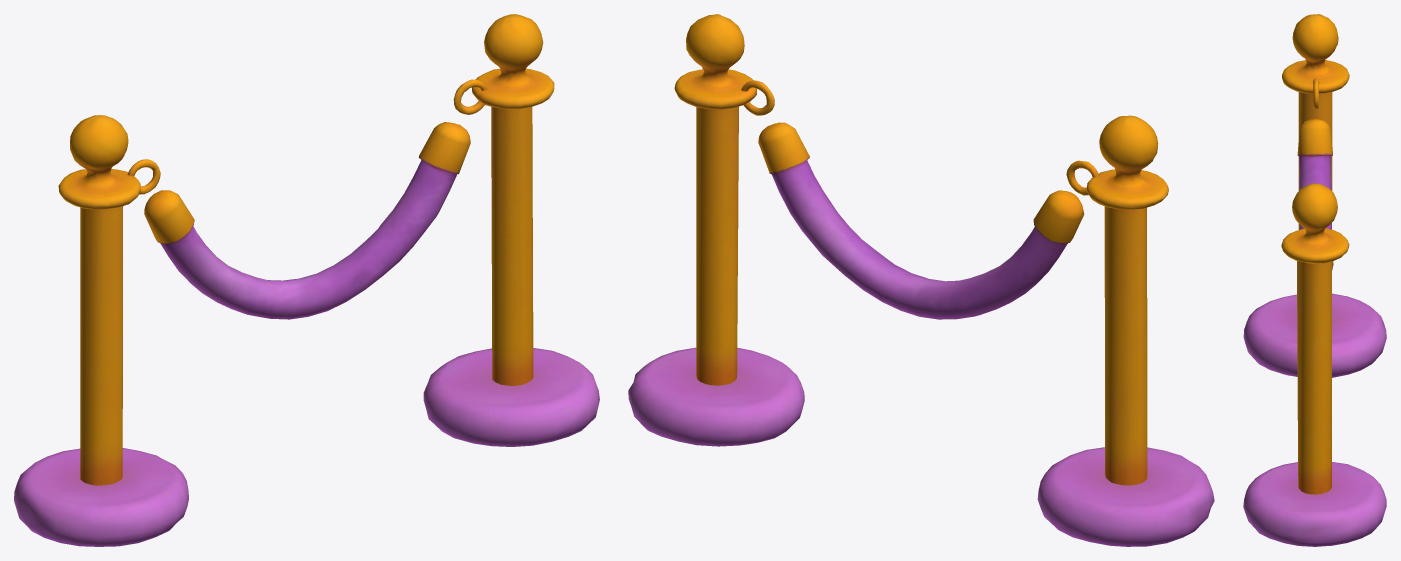
The model's file is club-velvet-rope.glb.
3 renders of one model, left to right at view 1: azimuth 30°, elevation 25°; view 2: azimuth 150°, elevation 25°; view 3: azimuth 270°, elevation 25°, orthographic. The views are drawn at different scales.
Visible parts, largest first — view 1: geometry_0; view 2: geometry_0; view 3: geometry_0.
Part boxes in pixels (box(x1,y1,x2,y2)): geometry_0: box(14, 14, 599, 546); geometry_0: box(628, 14, 1214, 546); geometry_0: box(1243, 14, 1386, 546).
Bounding box in the file's own units: 1 × 0.6925 × 0.2676.
Materials: 1 (1 with a texture image).
